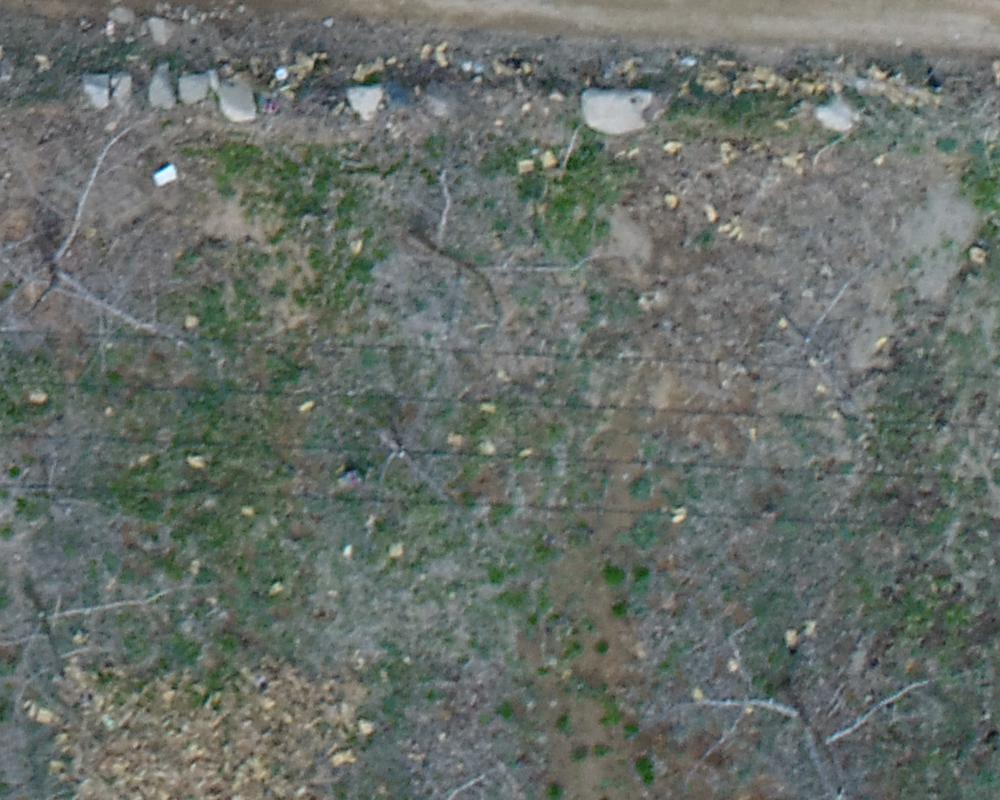apple: (10, 128, 197, 373), (681, 644, 975, 790), (363, 167, 605, 341), (10, 535, 199, 724), (321, 386, 514, 549)
